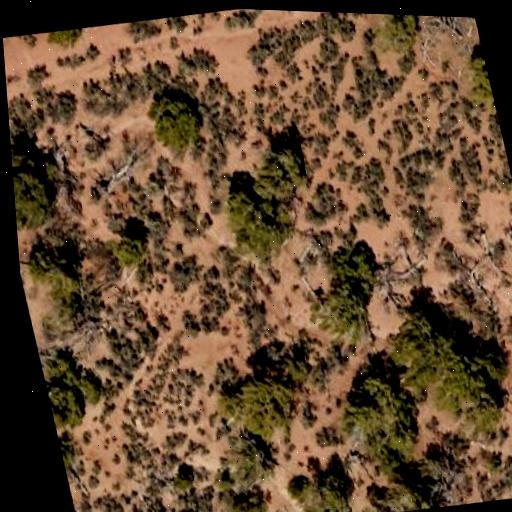tree-top: (384, 285, 512, 441), (334, 362, 431, 472), (213, 362, 307, 447), (218, 179, 306, 263), (298, 276, 377, 349), (240, 137, 315, 205), (11, 146, 68, 231), (140, 84, 208, 155), (17, 235, 79, 294), (217, 426, 277, 485), (364, 466, 434, 512), (304, 459, 363, 512), (36, 286, 93, 339), (44, 373, 95, 431), (105, 224, 152, 272), (337, 239, 382, 287), (218, 478, 276, 512), (462, 49, 494, 105), (379, 14, 428, 38), (57, 432, 83, 472), (43, 26, 88, 49)
